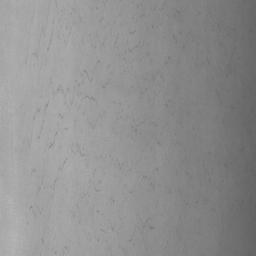Silk spot: (71, 143, 85, 157), (53, 85, 69, 94)
